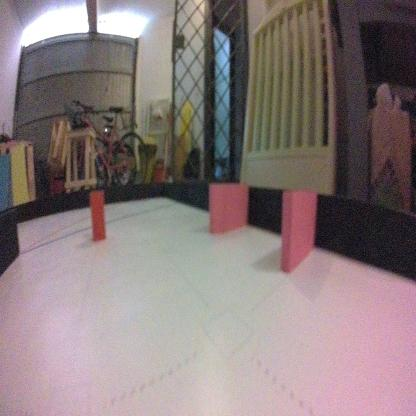magenta: (281, 186, 316, 272), (208, 181, 249, 237)
red: (89, 188, 106, 242)
